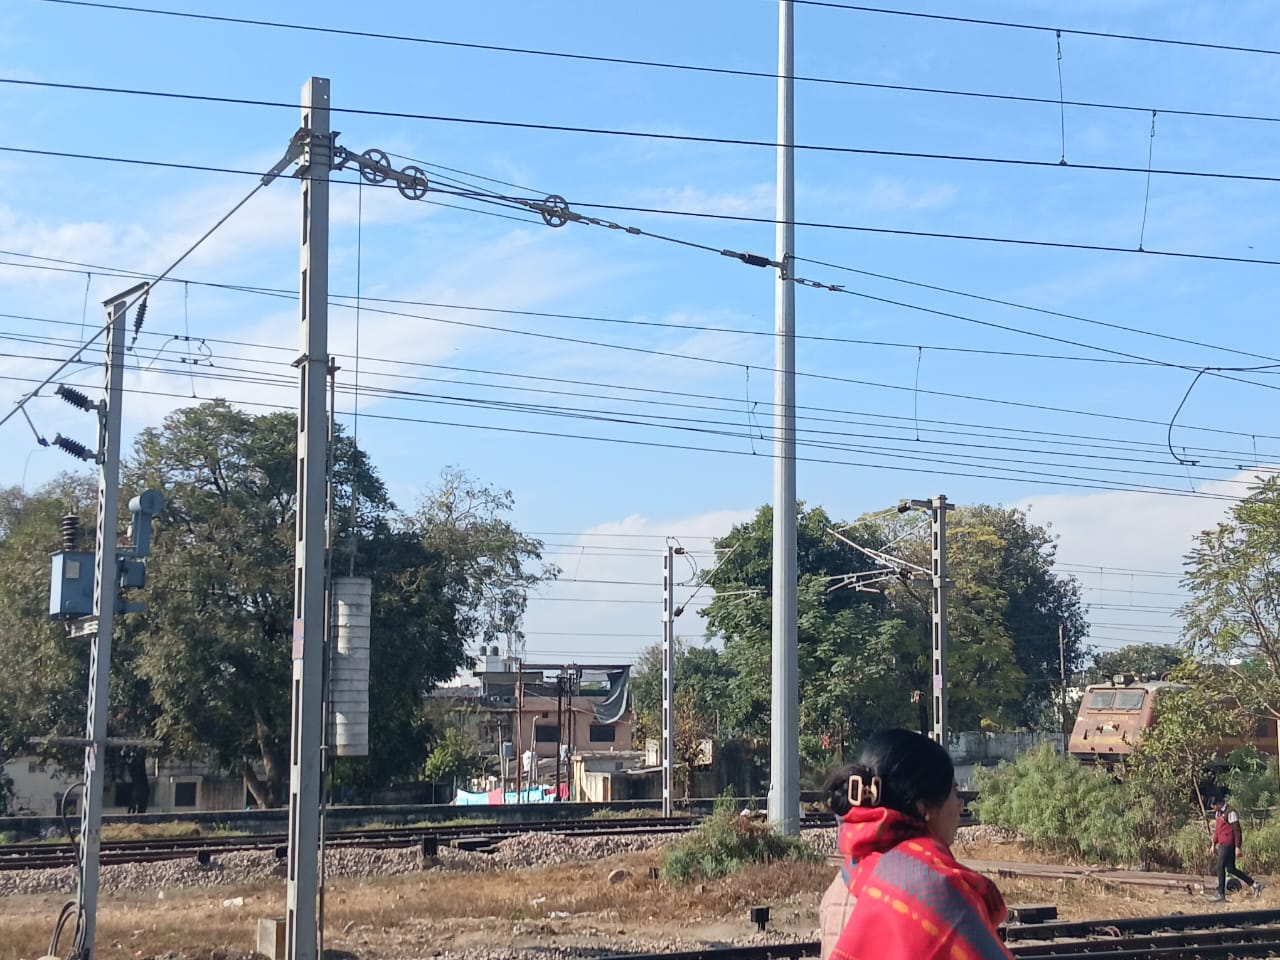Pulley: (354, 145, 393, 192), (542, 186, 573, 230), (398, 158, 426, 202)
objectA: (101, 299, 131, 937), (328, 575, 378, 763), (49, 495, 95, 559), (53, 373, 93, 414), (48, 425, 91, 463), (883, 555, 913, 586), (892, 493, 923, 519), (666, 600, 722, 612), (666, 535, 687, 557)
pole: (762, 0, 814, 869), (284, 75, 334, 940), (928, 486, 973, 832), (658, 562, 690, 836)
